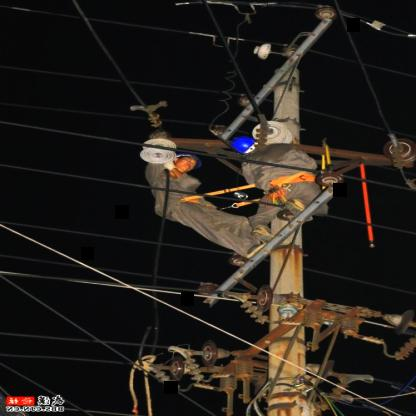helmet: (167, 150, 205, 174), (230, 135, 266, 157)
